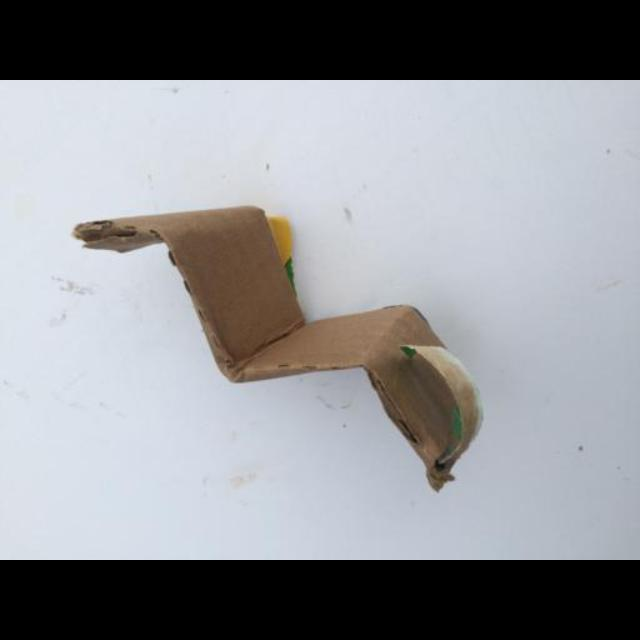papelão: (74, 206, 482, 497)
